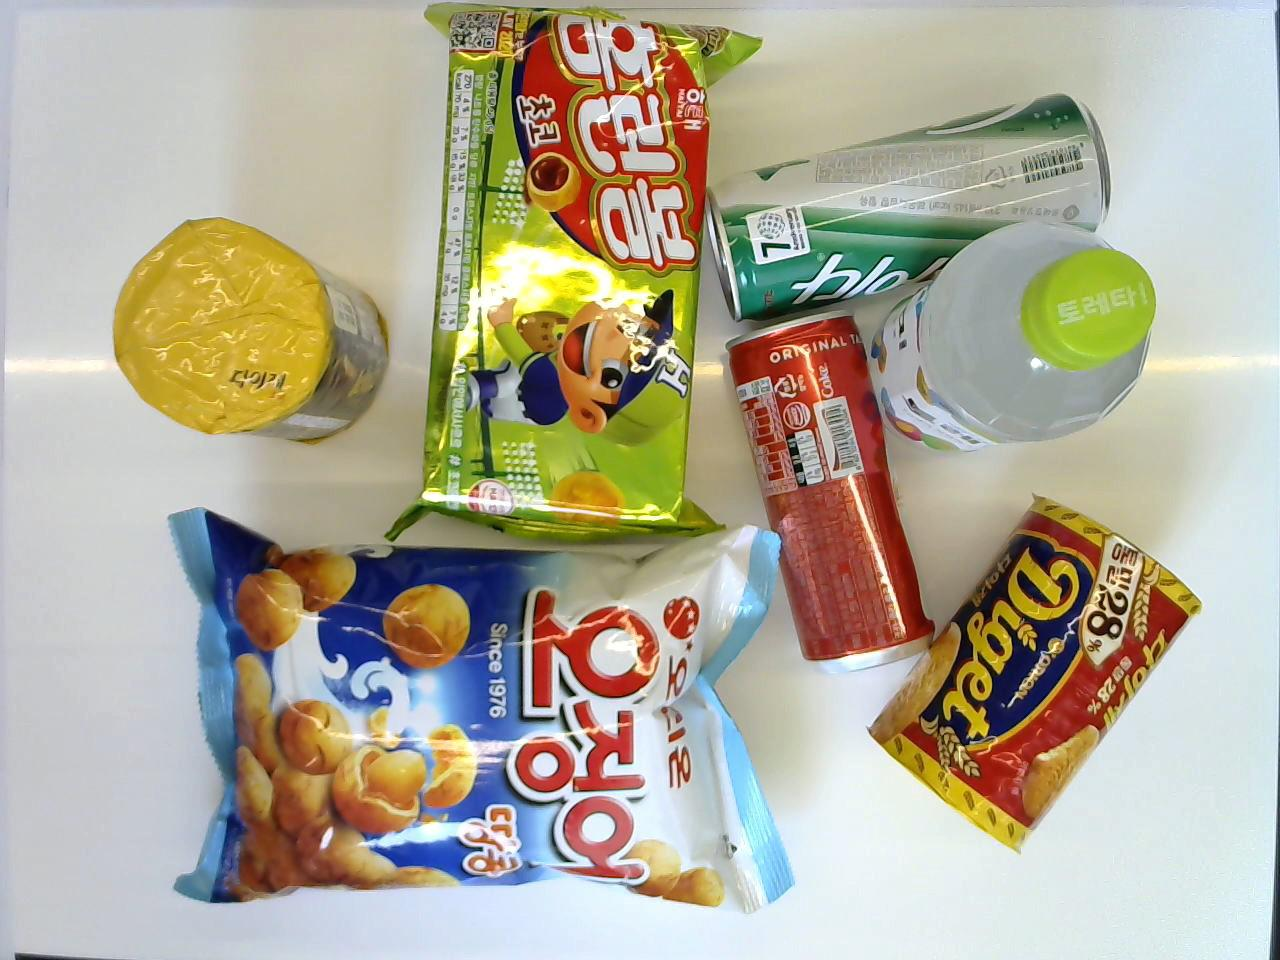cidar: (700, 90, 1114, 325)
coke: (725, 314, 939, 676)
diget_choco: (108, 215, 388, 450)
diget_ori: (869, 490, 1202, 851)
homerunball: (392, 1, 766, 556)
squid_peanut: (165, 507, 796, 916)
toreta: (870, 217, 1158, 460)
